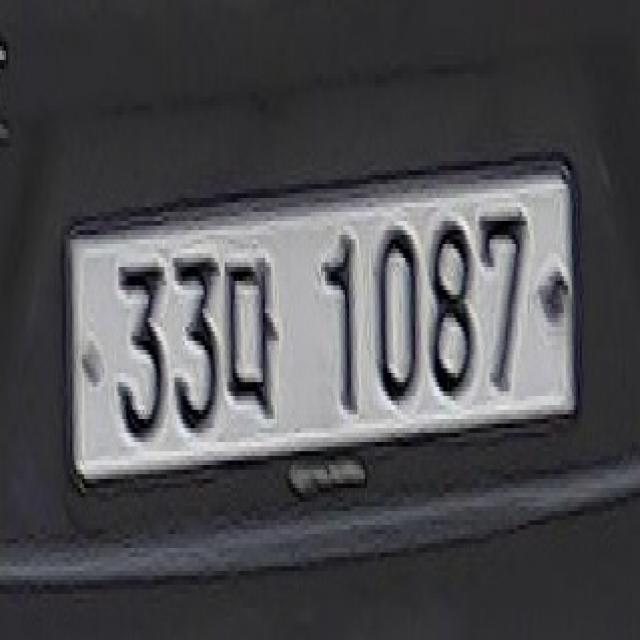0: (373, 217, 419, 400)
1: (321, 226, 359, 414)
3: (114, 253, 168, 442), (170, 248, 220, 432)
7: (478, 207, 528, 387)
8: (426, 207, 478, 401)
da: (223, 248, 281, 424)
license_plate: (66, 166, 574, 479)
